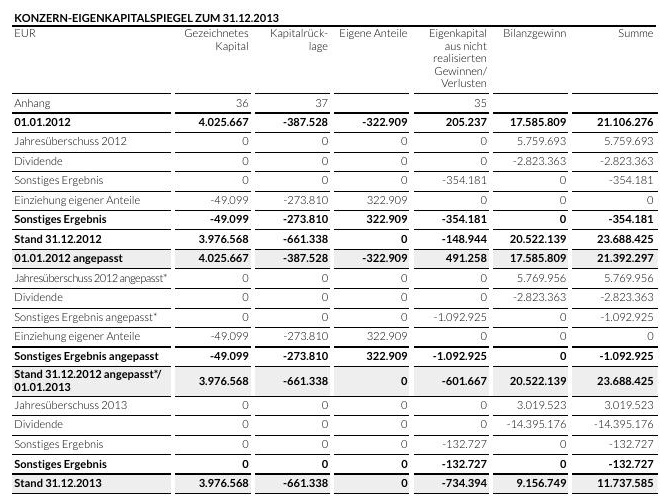table: (0, 0, 672, 504)
